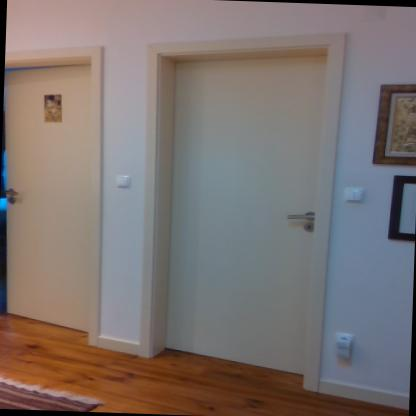closed: (110, 8, 382, 380)
semi: (0, 39, 107, 348)
